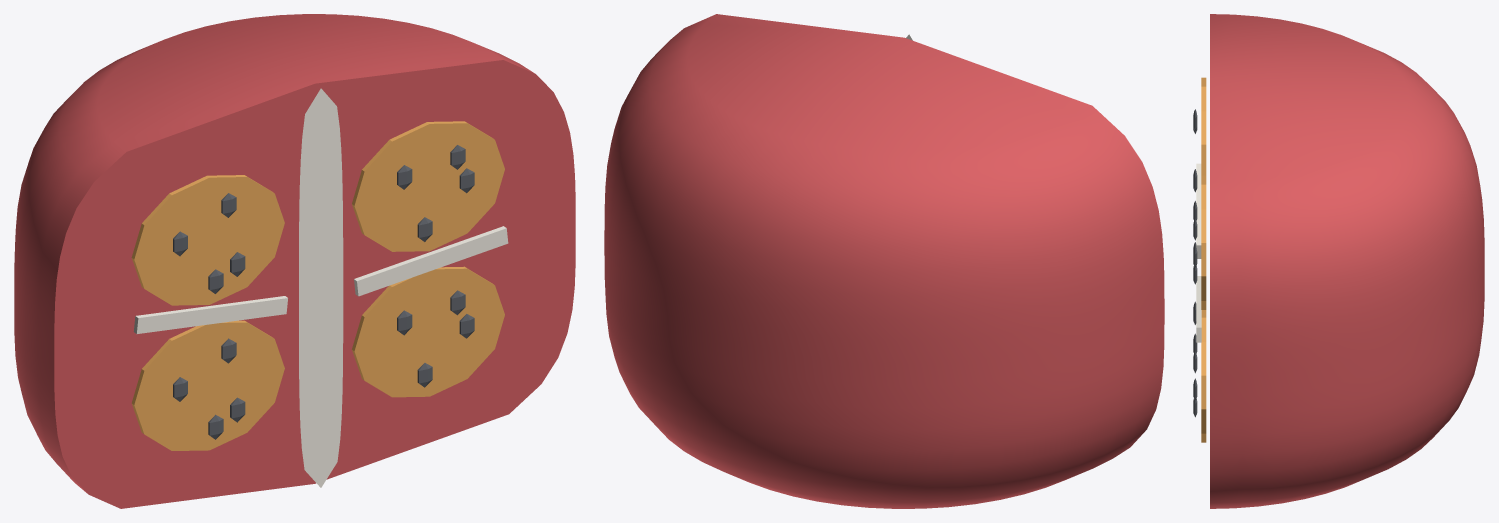
File: fresh-produce-and-groceries-tomato-half-7f0aa2c9__24371.glb
The picture shows the model from 3 angles, left to right: view 1: azimuth 30°, elevation 25°; view 2: azimuth 150°, elevation 25°; view 3: azimuth 270°, elevation 25°; orthographic projection. The views are drawn at different scales.
Visible parts, largest first — view 1: tomato-half; view 2: tomato-half; view 3: tomato-half.
Boxes of the visible parts, x1,y1,x2,y2 form: tomato-half: (14, 14, 575, 508); tomato-half: (604, 14, 1164, 508); tomato-half: (1193, 14, 1484, 508).
Size of the model in its own units: 0.09 by 0.066 by 0.0477.
